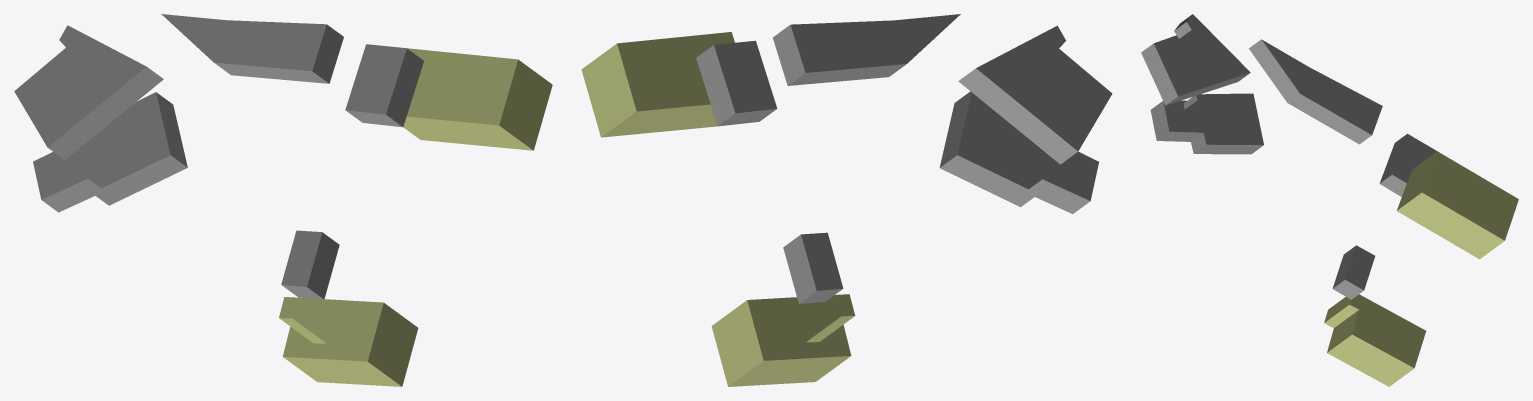
3 views of the same model, side by side, from view 1: azimuth 30°, elevation 25°; view 2: azimuth 150°, elevation 25°; view 3: azimuth 330°, elevation 25° (orthographic). The views are drawn at different scales.
Parts seen in each view (by area): view 1: 0_1_0_1_3_3_3_3_1; view 2: 0_1_0_1_3_3_3_3_1; view 3: 0_1_0_1_3_3_3_3_1.
Part boxes in pixels (left/top/right/bottom): 0_1_0_1_3_3_3_3_1: left=14, top=14, right=552, bottom=386; 0_1_0_1_3_3_3_3_1: left=581, top=14, right=1112, bottom=386; 0_1_0_1_3_3_3_3_1: left=1141, top=14, right=1518, bottom=386.
Size of the model in its own units: 50.16 by 39.3 by 6.7.
